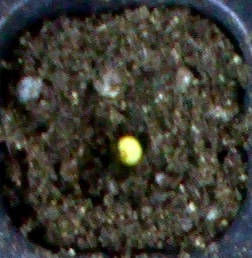pepper seed: (43, 51, 187, 218)
